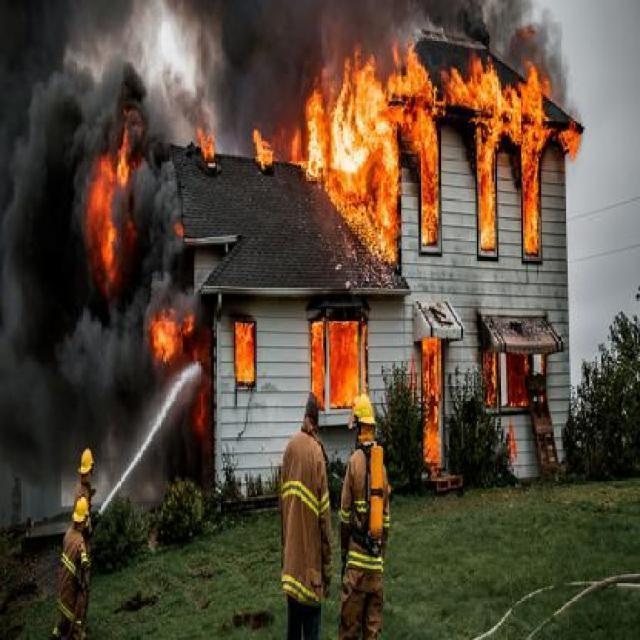Fire: (290, 46, 582, 274), (80, 132, 148, 295), (146, 306, 208, 442), (305, 316, 363, 414), (420, 343, 447, 470), (245, 115, 283, 173), (193, 114, 225, 174), (234, 320, 254, 383)
Smoke: (0, 0, 192, 510), (190, 2, 432, 154), (435, 2, 573, 126)
